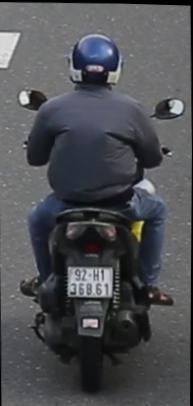LP: (65, 260, 114, 300)
helmet: (66, 28, 123, 94)
